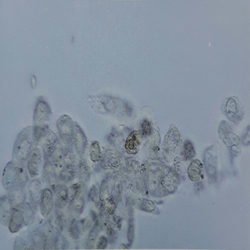Epithelial: (2, 95, 249, 250)
